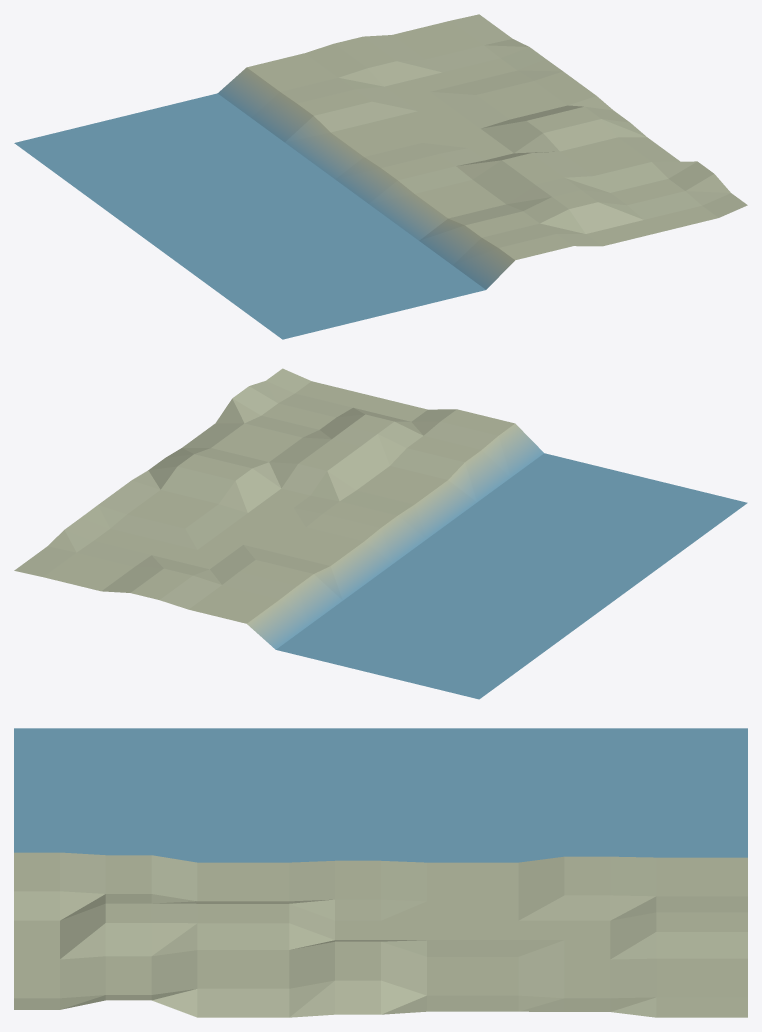
3 views of the same model, one above another, from view 1: azimuth 30°, elevation 25°; view 2: azimuth 150°, elevation 25°; view 3: azimuth 270°, elevation 25° (orthographic). The views are drawn at different scales.
Bounding box in the file's own units: 32 × 1.86 × 32.
